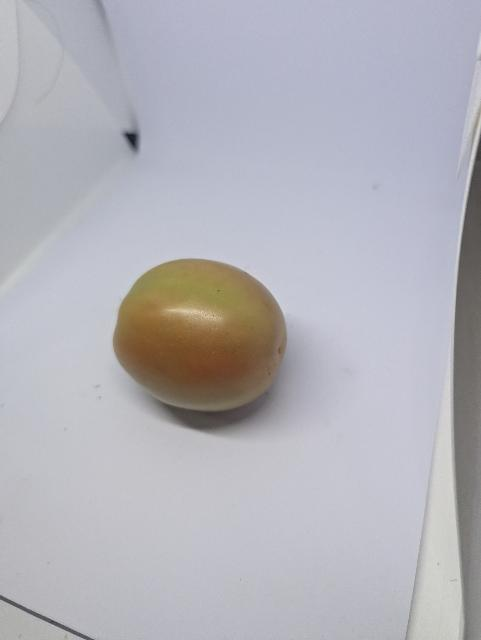breaker: (113, 259, 287, 411)
